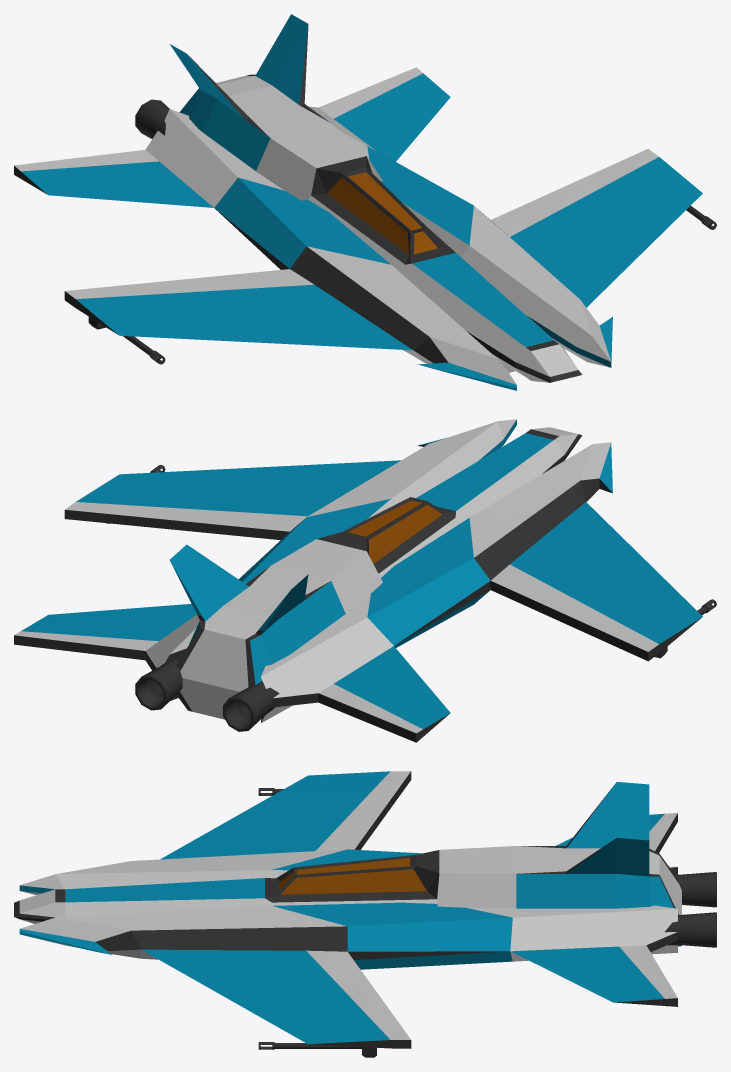
Rendered from playership (1).fbx.
3 renders of one model, top to bottom at view 1: azimuth 30°, elevation 25°; view 2: azimuth 150°, elevation 25°; view 3: azimuth 270°, elevation 25°, orthographic. The views are drawn at different scales.
Parts seen in each view (by area): view 1: Player_Ship; view 2: Player_Ship; view 3: Player_Ship.
Boxes of the visible parts, x1,y1,x2,y2 form: Player_Ship: (14,14,716,390); Player_Ship: (14,419,716,742); Player_Ship: (14,771,716,1057).
Size of the model in its own units: 20.53 by 4.63 by 22.7.
